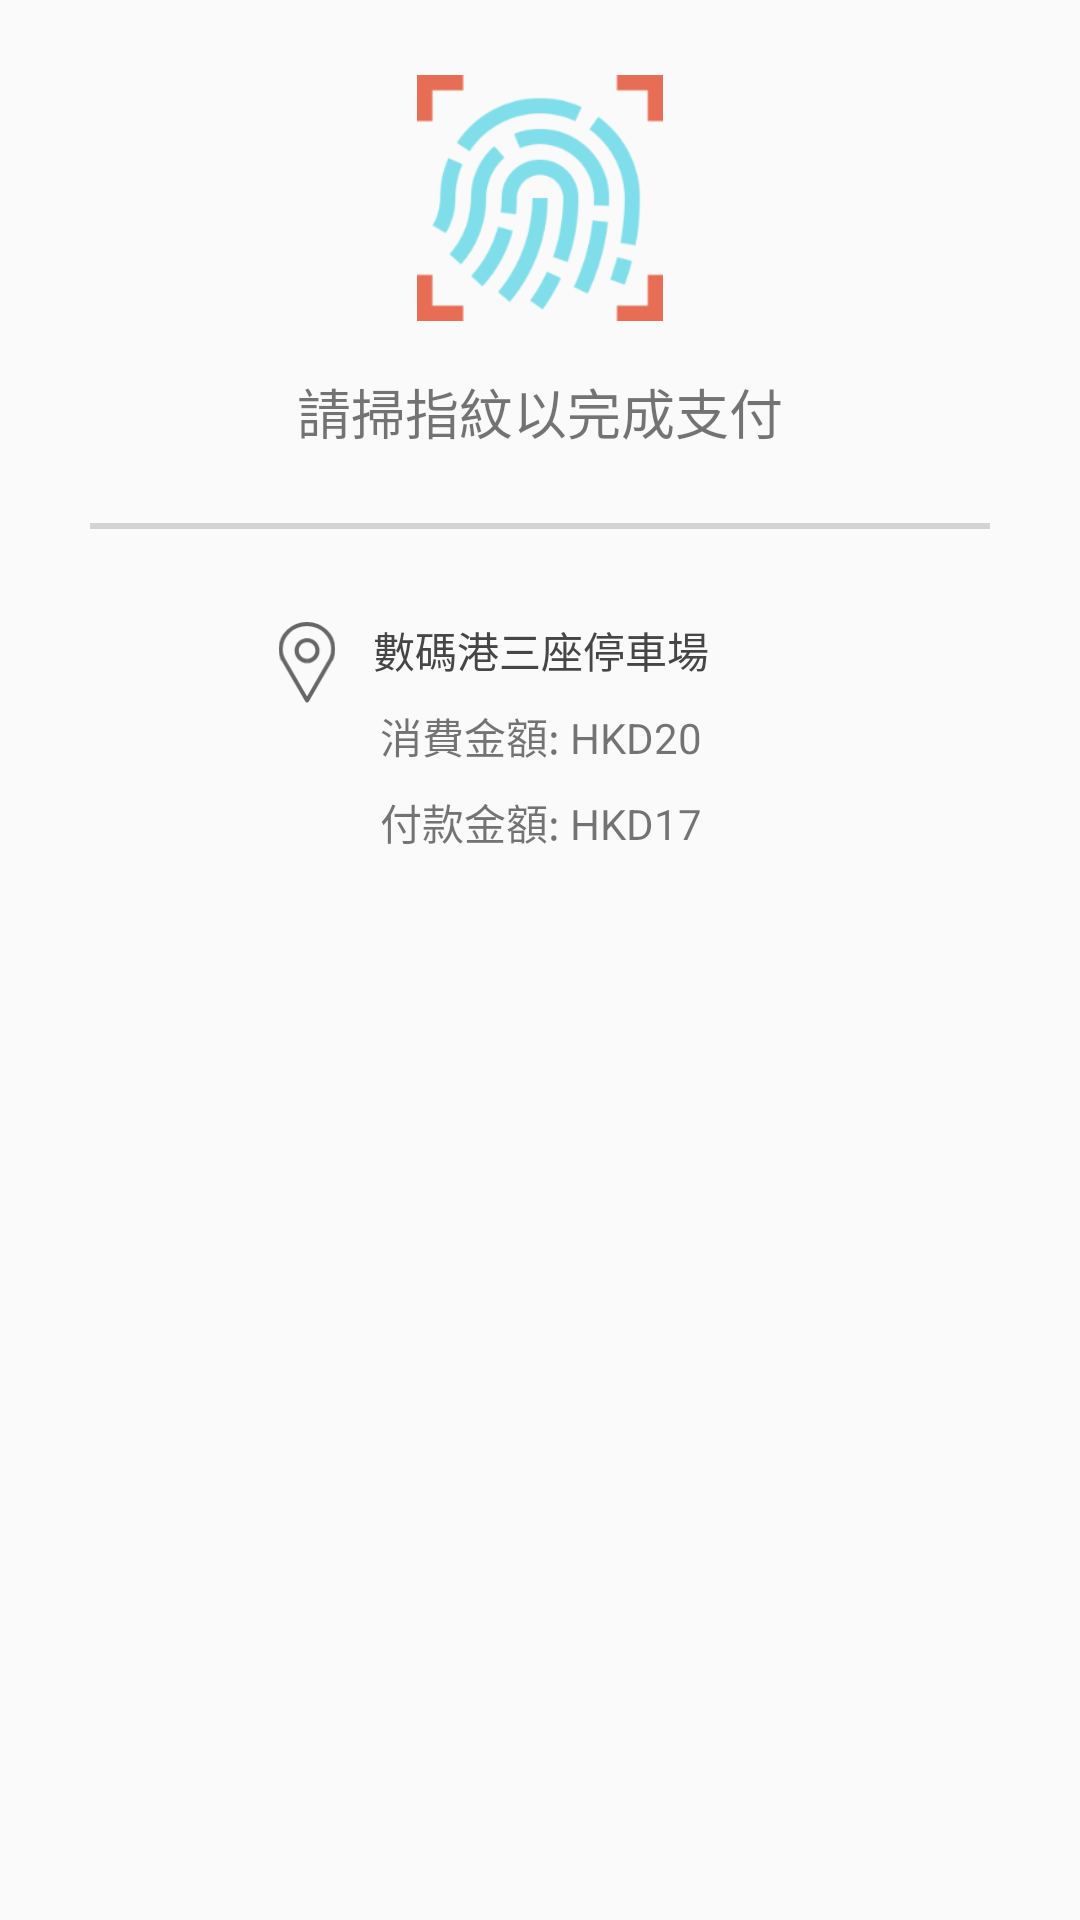

Point at icon controls on the screen. Image size 1080px x 1920px, points as [x,y].
location: [307,662]
